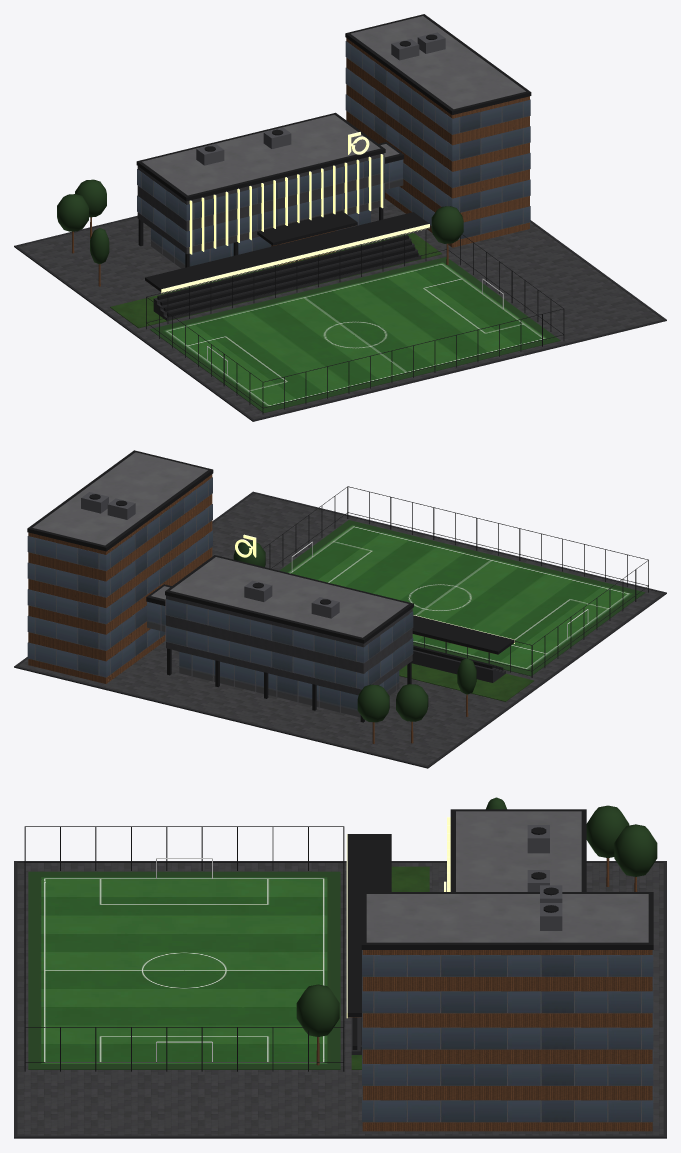
The model's file is academy_L5.glb.
3 views of the same model, one above another, from view 1: azimuth 30°, elevation 25°; view 2: azimuth 150°, elevation 25°; view 3: azimuth 270°, elevation 25° (orthographic). The views are drawn at different scales.
Visible parts, largest first — view 1: turf_acad_academy_L5, paving_academy_L5, emissive_curtain_academy_L5, black_metal_academy_L5, roofing_academy_L5, wood_academy_L5, concrete_dark_academy_L5, emissive_led_academy_L5, cladding_academy_L5, foliage_academy_L5, lawn_academy_L5, steel_academy_L5; view 2: emissive_curtain_academy_L5, paving_academy_L5, turf_acad_academy_L5, roofing_academy_L5, black_metal_academy_L5, wood_academy_L5, cladding_academy_L5, concrete_dark_academy_L5, foliage_academy_L5, lawn_academy_L5, steel_academy_L5; view 3: turf_acad_academy_L5, paving_academy_L5, emissive_curtain_academy_L5, wood_academy_L5, roofing_academy_L5, black_metal_academy_L5, concrete_dark_academy_L5, foliage_academy_L5, steel_academy_L5, lawn_academy_L5, emissive_led_academy_L5.
Part boxes in pixels (x1=…): turf_acad_academy_L5: x1=150, y1=257, x2=560, y2=412; paving_academy_L5: x1=18, y1=199, x2=662, y2=419; emissive_curtain_academy_L5: x1=137, y1=41, x2=530, y2=268; black_metal_academy_L5: x1=136, y1=14, x2=564, y2=414; roofing_academy_L5: x1=142, y1=16, x2=525, y2=195; wood_academy_L5: x1=72, y1=38, x2=529, y2=286; concrete_dark_academy_L5: x1=14, y1=215, x2=666, y2=421; emissive_led_academy_L5: x1=161, y1=132, x2=429, y2=293; cladding_academy_L5: x1=137, y1=153, x2=384, y2=253; foliage_academy_L5: x1=57, y1=179, x2=463, y2=264; lawn_academy_L5: x1=110, y1=233, x2=441, y2=328; steel_academy_L5: x1=196, y1=32, x2=445, y2=165; emissive_curtain_academy_L5: x1=27, y1=477, x2=413, y2=717; paving_academy_L5: x1=18, y1=493, x2=662, y2=765; turf_acad_academy_L5: x1=279, y1=520, x2=645, y2=676; roofing_academy_L5: x1=32, y1=452, x2=408, y2=637; black_metal_academy_L5: x1=27, y1=450, x2=648, y2=722; wood_academy_L5: x1=28, y1=474, x2=497, y2=743; cladding_academy_L5: x1=166, y1=595, x2=412, y2=695; concrete_dark_academy_L5: x1=14, y1=491, x2=666, y2=768; foliage_academy_L5: x1=233, y1=541, x2=476, y2=722; lawn_academy_L5: x1=399, y1=663, x2=534, y2=701; steel_academy_L5: x1=81, y1=492, x2=339, y2=618; turf_acad_academy_L5: x1=28, y1=871, x2=340, y2=1069; paving_academy_L5: x1=17, y1=863, x2=663, y2=1135; emissive_curtain_academy_L5: x1=362, y1=950, x2=653, y2=1122; wood_academy_L5: x1=316, y1=858, x2=652, y2=1131; roofing_academy_L5: x1=366, y1=811, x2=648, y2=942; black_metal_academy_L5: x1=24, y1=809, x2=653, y2=1071; concrete_dark_academy_L5: x1=14, y1=861, x2=666, y2=1138; foliage_academy_L5: x1=296, y1=797, x2=657, y2=1036; steel_academy_L5: x1=527, y1=825, x2=562, y2=930; lawn_academy_L5: x1=351, y1=866, x2=429, y2=1069; emissive_led_academy_L5: x1=346, y1=817, x2=450, y2=1018.
Size of the model in its own units: 58.6 by 20.24 by 58.6.
Materials: 13 (7 with a texture image).
